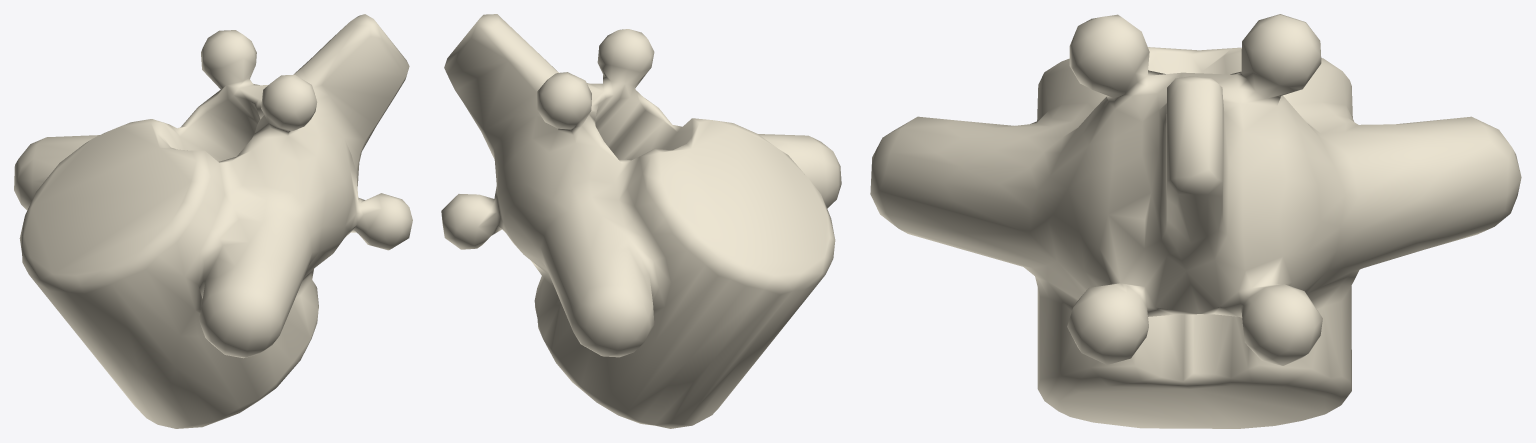
The model's file is cervical_6.glb.
3 views of the same model, side by side, from view 1: azimuth 30°, elevation 25°; view 2: azimuth 150°, elevation 25°; view 3: azimuth 270°, elevation 25° (orthographic). The views are drawn at different scales.
Visible parts, largest first — view 1: geometry_0; view 2: geometry_0; view 3: geometry_0.
Part boxes in pixels (x1,y1,x2,y2): geometry_0: [14, 14, 412, 428]; geometry_0: [441, 14, 841, 428]; geometry_0: [870, 14, 1521, 428].
Bounding box in the file's own units: 0.3008 × 0.272 × 0.323.
